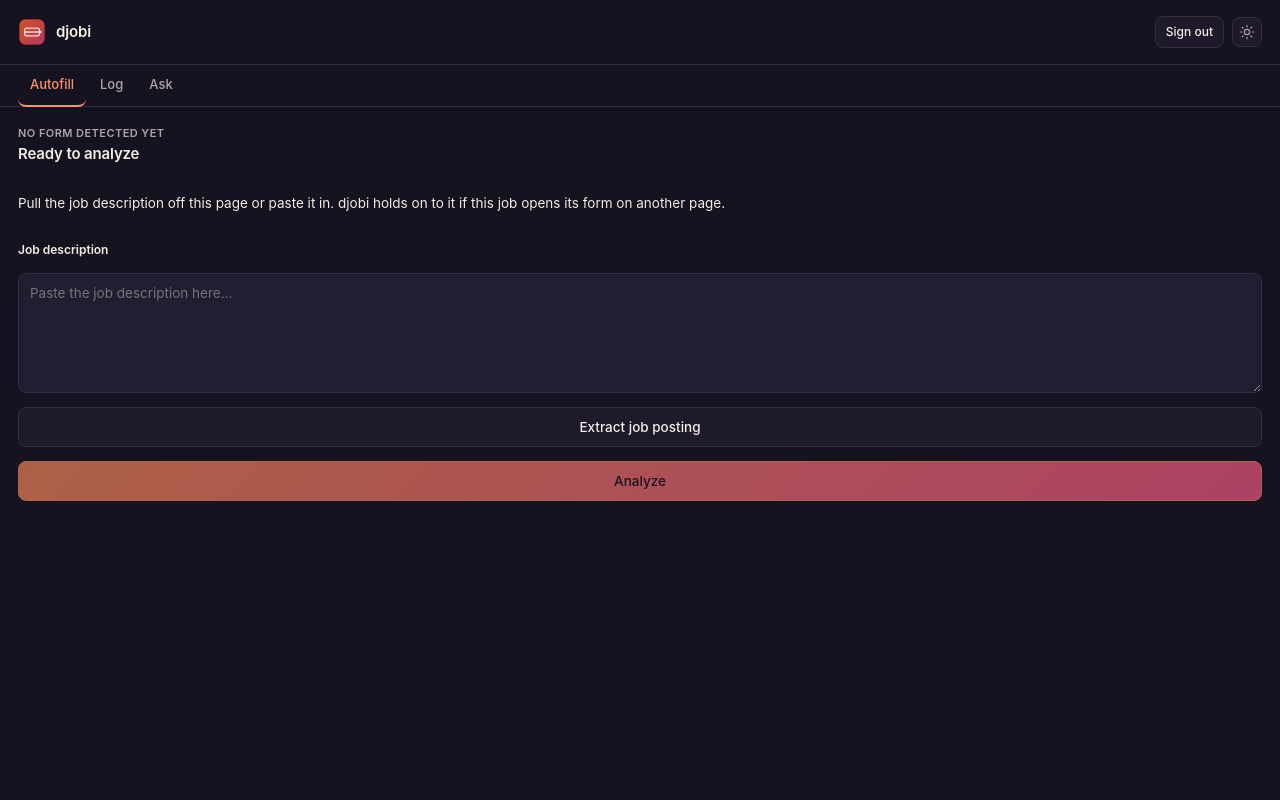
Test: panel App › offers the Ask tab with no run at all — a question needs no job page to be worth answering
Click the button "Ask" at (161, 86), box [137,65,185,106]
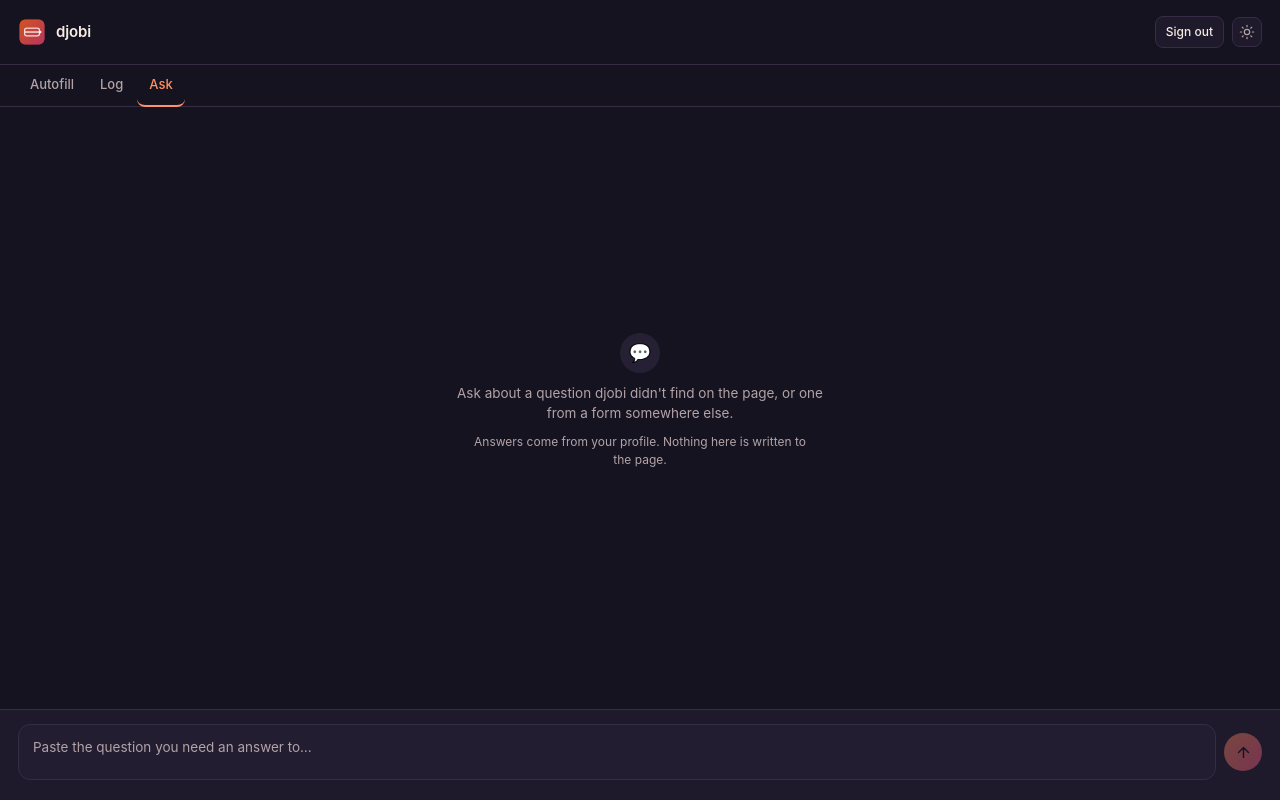
Check: the text box named "Application question" is shown, box [18,724,1216,780]
Check: the button named "Send" is shown, box [1224,733,1262,771]
